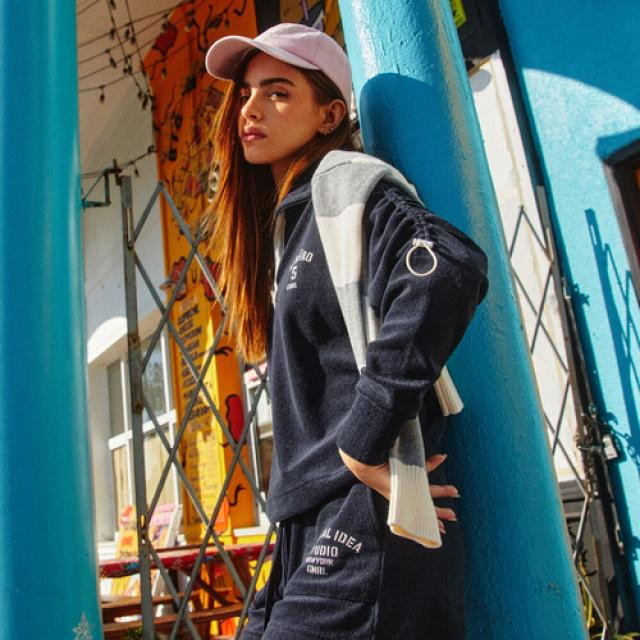Blouse_deep: (225, 486, 432, 640)
